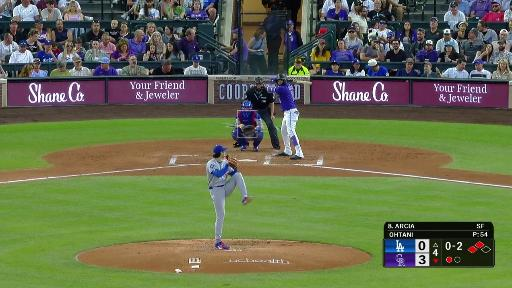pitcher: (208, 145, 252, 251)
